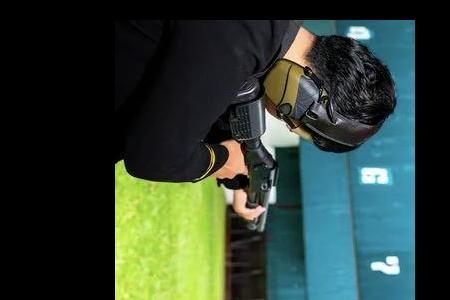larga: (227, 72, 277, 233)
